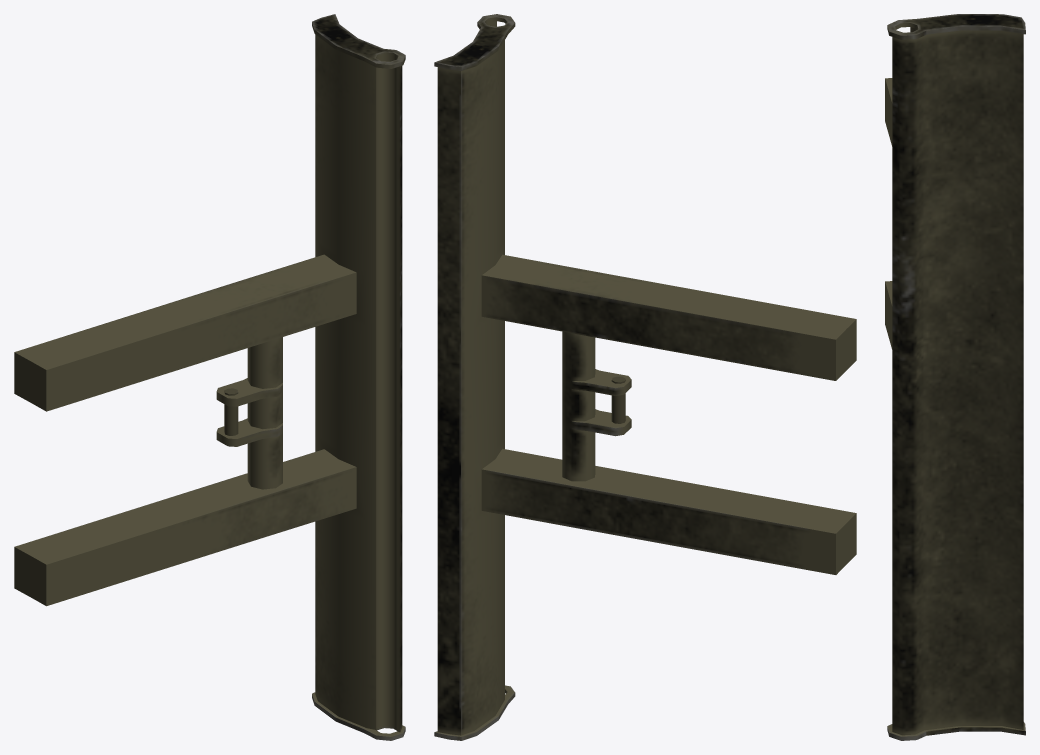
The model's file is blade.obj.
3 renders of one model, left to right at view 1: azimuth 30°, elevation 25°; view 2: azimuth 150°, elevation 25°; view 3: azimuth 270°, elevation 25°, orthographic. The views are drawn at different scales.
Visible parts, largest first — view 1: Plow.001; view 2: Plow.001; view 3: Plow.001.
Part boxes in pixels (x1,y1,x2,y2): Plow.001: (14, 14, 405, 740); Plow.001: (434, 14, 856, 740); Plow.001: (885, 14, 1025, 740).
Size of the model in its own units: 0.8635 by 1.5 by 0.2705.
Materials: 1 (1 with a texture image).
